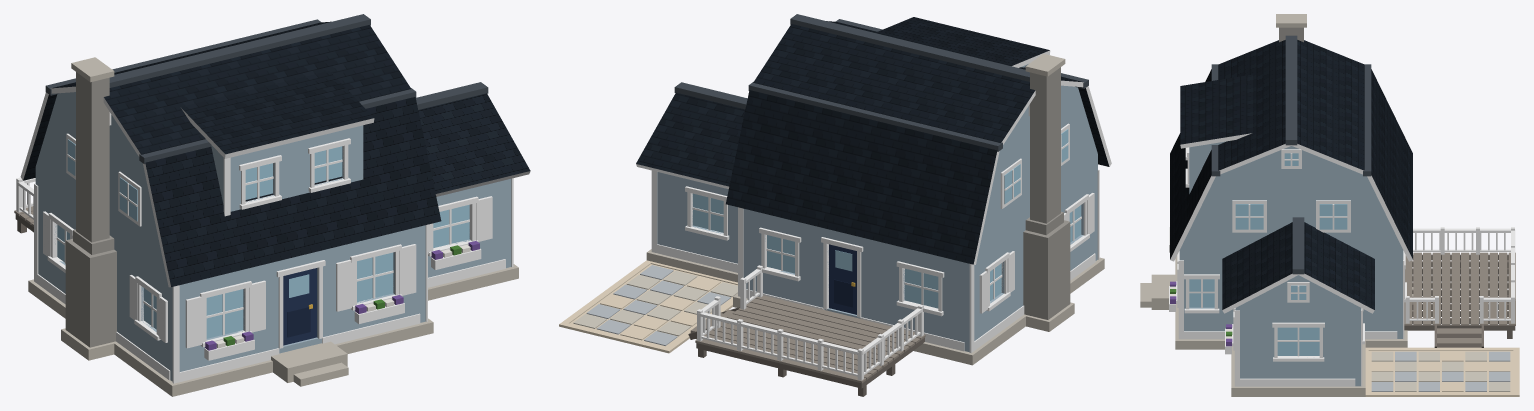
Rendered from base-05-level4.glb.
3 views of the same model, side by side, from view 1: azimuth 30°, elevation 25°; view 2: azimuth 150°, elevation 25°; view 3: azimuth 270°, elevation 25° (orthographic). The views are drawn at different scales.
Parts seen in each view (by area): view 1: base_house_5_finished, piece_addition, piece_deck; view 2: base_house_5_finished, piece_addition, piece_deck, piece_patio; view 3: base_house_5_finished, piece_addition, piece_deck, piece_patio.
Part boxes in pixels (x1,y1,x2,y2): base_house_5_finished: (20,14,441,396); piece_addition: (416,82,530,300); piece_deck: (14,177,35,233); base_house_5_finished: (726,14,1111,365); piece_addition: (636,82,747,282); piece_deck: (688,265,925,396); piece_patio: (559,260,737,353); base_house_5_finished: (1140,14,1413,349); piece_addition: (1222,217,1374,396); piece_deck: (1404,227,1515,347); piece_patio: (1365,347,1519,396).
Size of the model in its own units: 13.79 by 8.92 by 13.55.
20 materials, 1 textured.
